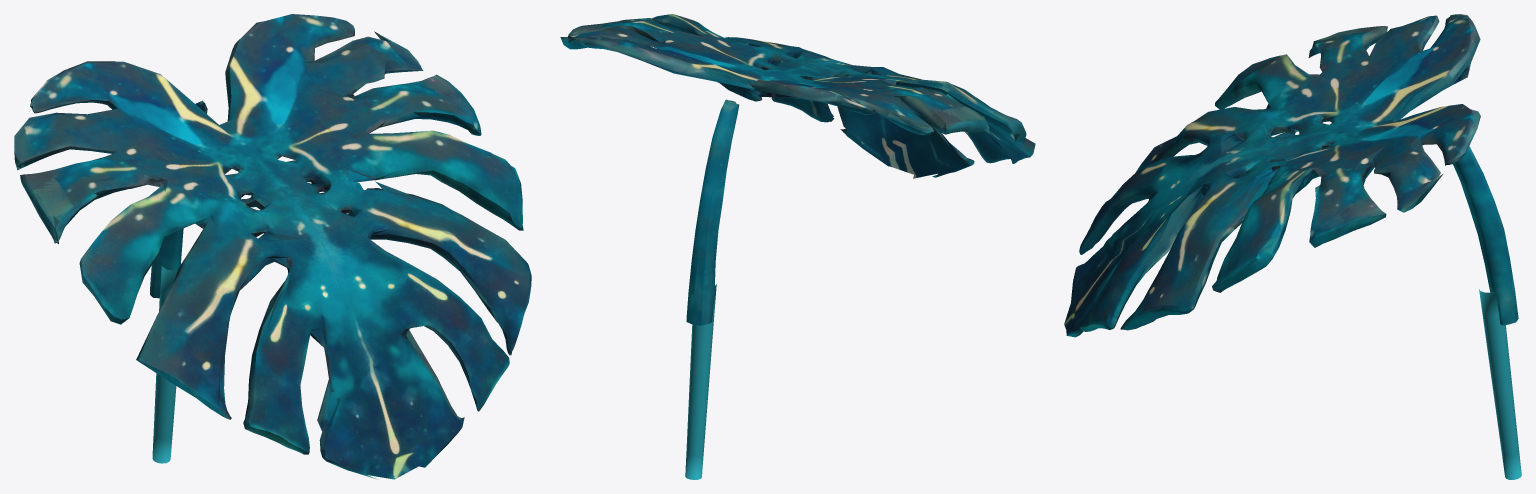
The model's file is mon_galaxy_tealgold_v1.glb.
3 views of the same model, side by side, from view 1: azimuth 30°, elevation 25°; view 2: azimuth 150°, elevation 25°; view 3: azimuth 270°, elevation 25° (orthographic). The views are drawn at different scales.
Visible parts, largest first — view 1: blade, petiole; view 2: blade, petiole; view 3: blade, petiole.
Boxes of the visible parts, x1,y1,x2,y2 form: blade: [14, 14, 531, 479]; petiole: [152, 265, 177, 463]; blade: [560, 14, 1035, 325]; petiole: [685, 284, 716, 479]; blade: [1064, 14, 1518, 337]; petiole: [1479, 289, 1521, 479].
Bounding box in the file's own units: 2 × 1.93 × 1.98.
2 materials, 1 textured.
